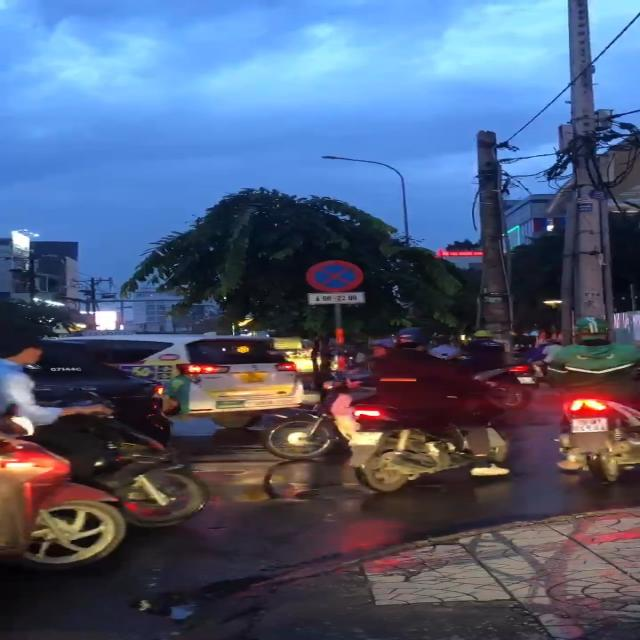Bien bao cam dung xe va do xe: (302, 257, 365, 294)
